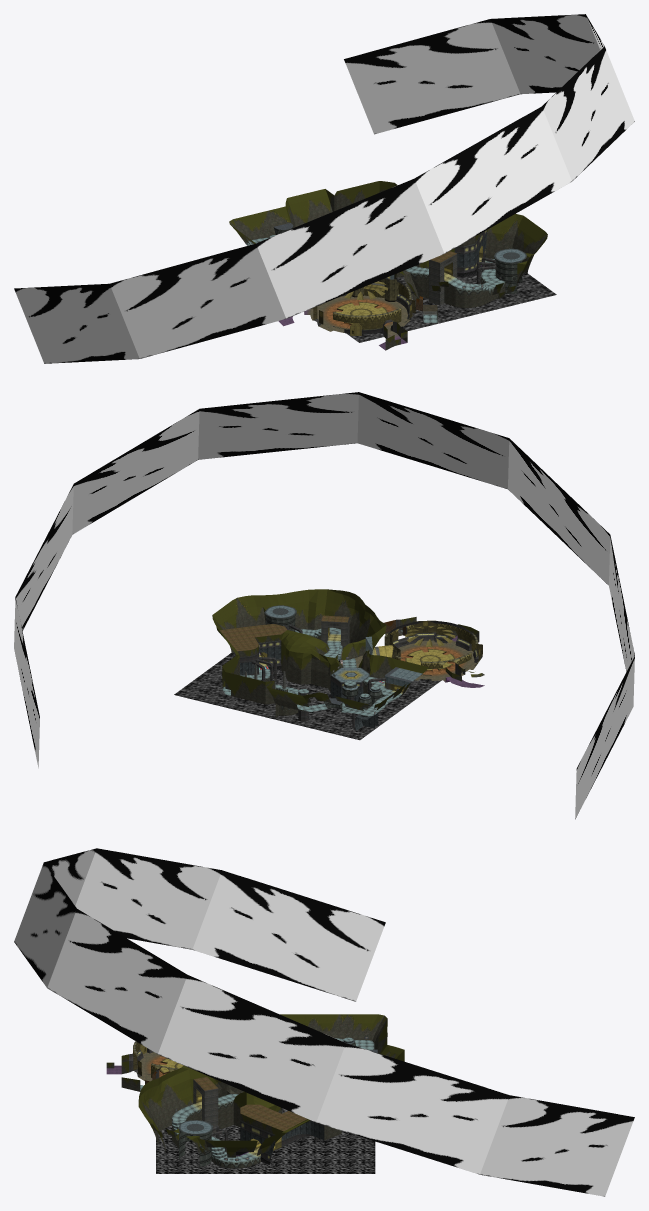
The picture shows the model from 3 angles, top to bottom: view 1: azimuth 30°, elevation 25°; view 2: azimuth 150°, elevation 25°; view 3: azimuth 270°, elevation 25°; orthographic projection. The views are drawn at different scales.
Parts seen in each view (by area): view 1: Aurora, Wall.001, Water.002, Grass.002, MetalPanel_Blue, MetalWall_Dark, MetalWall2, GrassWall1, Rubble, MetalWall4B, GrassWall6, GrassWall2 (+2 smaller); view 2: Aurora, Grass.002, Water.002, Wall.001, MetalPanel_Blue, MetalWall_Dark, Rooftop, GrassWall1, CrackedWall_Dark, GrassWall3, GrassWall2, MetalWall4B (+2 smaller); view 3: Aurora, Water.002, Grass.002, Wall.001, Rooftop, MetalPanel_Blue, MetalWall_Dark, CrackedWall_Dark, MetalWall2, GrassWall4, GrassWall2, GrassWall1 (+3 smaller).
Boxes of the visible parts, <box> form: Aurora: <box>14,14,634,363</box>; Wall.001: <box>235,192,540,350</box>; Water.002: <box>346,270,556,342</box>; Grass.002: <box>231,181,546,275</box>; MetalPanel_Blue: <box>246,235,504,322</box>; MetalWall_Dark: <box>311,231,496,335</box>; MetalWall2: <box>429,254,457,305</box>; GrassWall1: <box>240,192,547,344</box>; Rubble: <box>310,281,410,335</box>; MetalWall4B: <box>273,227,522,293</box>; GrassWall6: <box>233,190,536,338</box>; GrassWall2: <box>237,185,525,342</box>; Aurora: <box>14,392,634,819</box>; Grass.002: <box>212,589,474,706</box>; Water.002: <box>174,652,441,740</box>; Wall.001: <box>220,605,479,717</box>; MetalPanel_Blue: <box>222,627,402,716</box>; MetalWall_Dark: <box>240,619,482,727</box>; Rooftop: <box>220,615,349,651</box>; GrassWall1: <box>225,598,479,710</box>; CrackedWall_Dark: <box>240,646,385,730</box>; GrassWall3: <box>221,596,451,708</box>; GrassWall2: <box>212,594,474,710</box>; MetalWall4B: <box>264,612,382,716</box>; Aurora: <box>14,848,634,1196</box>; Water.002: <box>156,1107,375,1173</box>; Grass.002: <box>123,1014,404,1151</box>; Wall.001: <box>121,1023,382,1153</box>; Rooftop: <box>194,1077,306,1131</box>; MetalPanel_Blue: <box>140,1037,374,1162</box>; MetalWall_Dark: <box>129,1048,324,1159</box>; CrackedWall_Dark: <box>240,1040,353,1154</box>; MetalWall2: <box>193,1079,218,1132</box>; GrassWall4: <box>106,1014,394,1157</box>; GrassWall2: <box>121,1014,382,1136</box>; GrassWall1: <box>145,1023,399,1152</box>.
Size of the model in its own units: 173326 by 77806 by 157637.
Materials: 80 (80 with a texture image).
